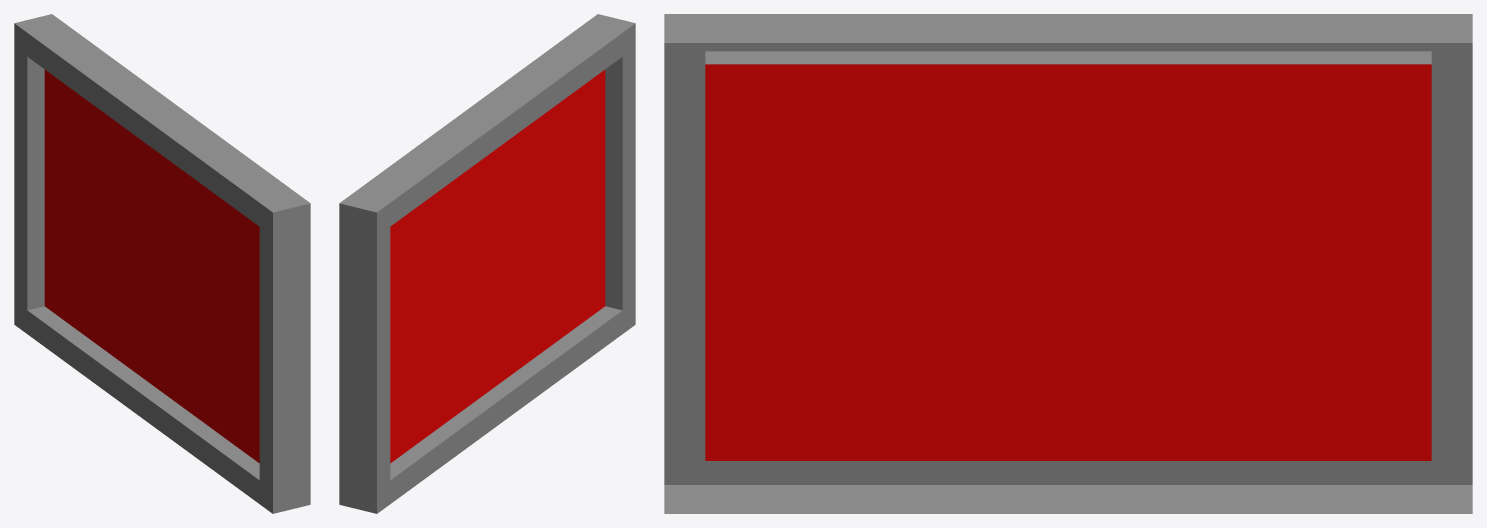
The model's file is Frame_anime.FBX.
3 views of the same model, side by side, from view 1: azimuth 30°, elevation 25°; view 2: azimuth 150°, elevation 25°; view 3: azimuth 270°, elevation 25° (orthographic). The views are drawn at different scales.
Visible parts, largest first — view 1: Box044; view 2: Box044; view 3: Box044.
Boxes of the visible parts, left/top/right/bottom form: Box044: left=14, top=14, right=310, bottom=513; Box044: left=339, top=14, right=635, bottom=513; Box044: left=664, top=14, right=1472, bottom=513.
Size of the model in its own units: 5.62 by 42.83 by 66.62.
